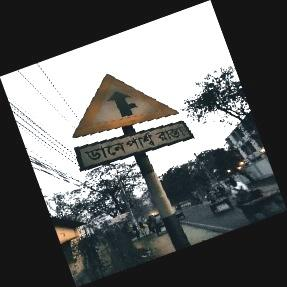Side-road-right: (72, 74, 194, 172)
